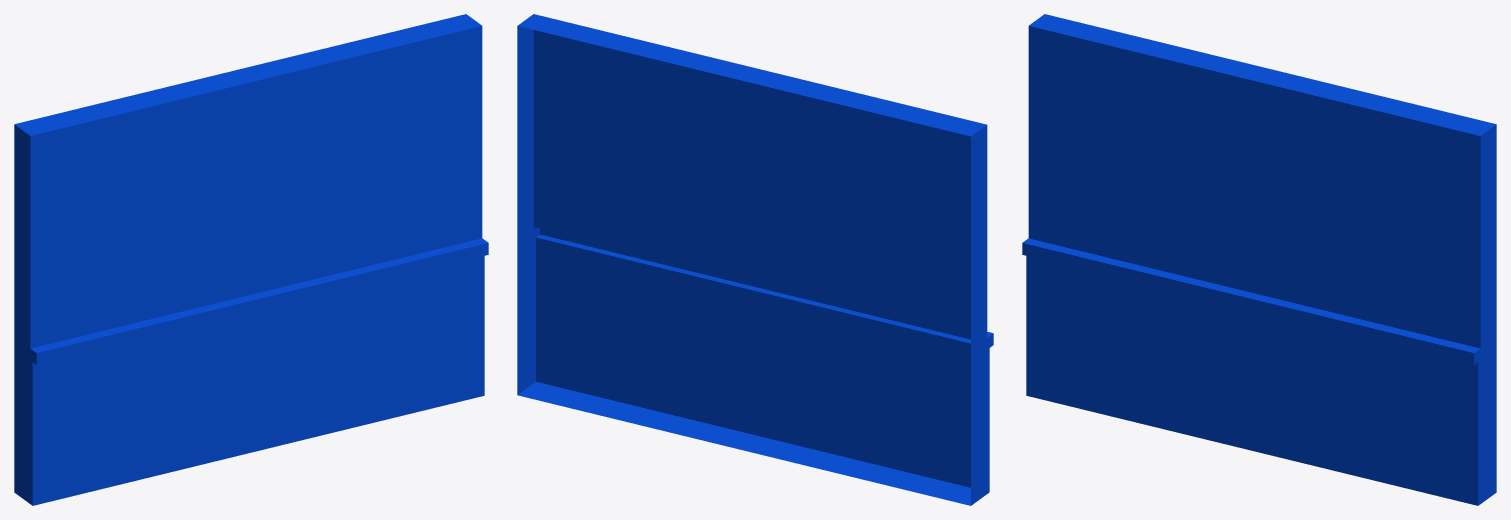
File: OfficeWall.fbx
The picture shows the model from 3 angles, left to right: view 1: azimuth 30°, elevation 25°; view 2: azimuth 150°, elevation 25°; view 3: azimuth 330°, elevation 25°; orthographic projection.
Visible parts, largest first — view 1: OfficeWall; view 2: OfficeWall; view 3: OfficeWall.
Part boxes in pixels (x1=…): OfficeWall: x1=14, y1=14, x2=488, y2=505; OfficeWall: x1=517, y1=14, x2=993, y2=505; OfficeWall: x1=1022, y1=14, x2=1496, y2=505.
Bounding box in the file's own units: 273 × 350 × 30.18.
